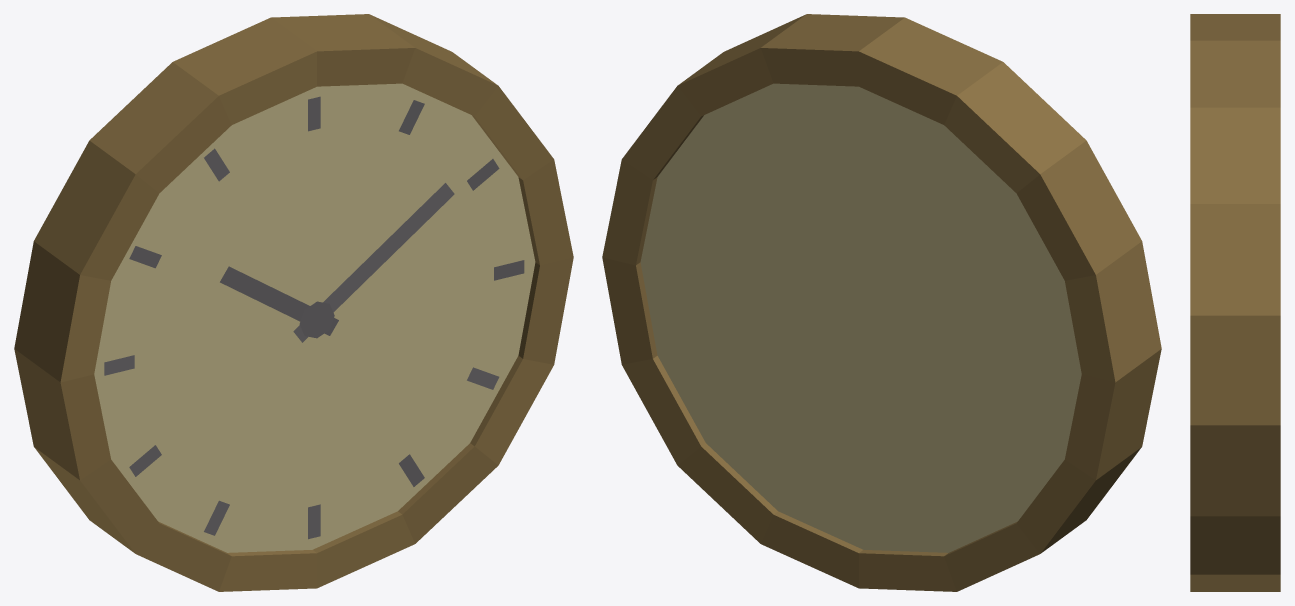
Rendered from wall_clock.glb.
The picture shows the model from 3 angles, left to right: view 1: azimuth 30°, elevation 25°; view 2: azimuth 150°, elevation 25°; view 3: azimuth 270°, elevation 25°; orthographic projection. The views are drawn at different scales.
Parts seen in each view (by area): view 1: wall_clock; view 2: wall_clock; view 3: wall_clock.
Part boxes in pixels (left/top/right/bottom): wall_clock: left=14, top=14, right=573, bottom=591; wall_clock: left=602, top=14, right=1161, bottom=591; wall_clock: left=1190, top=14, right=1280, bottom=591.
Bounding box in the file's own units: 0.32 × 0.32 × 0.05.
